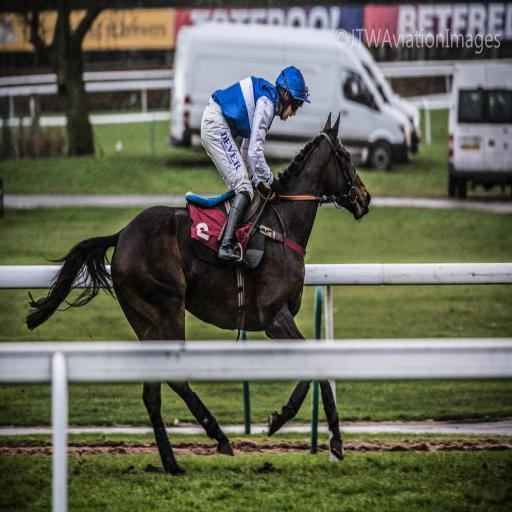Horse: (23, 112, 372, 476)
